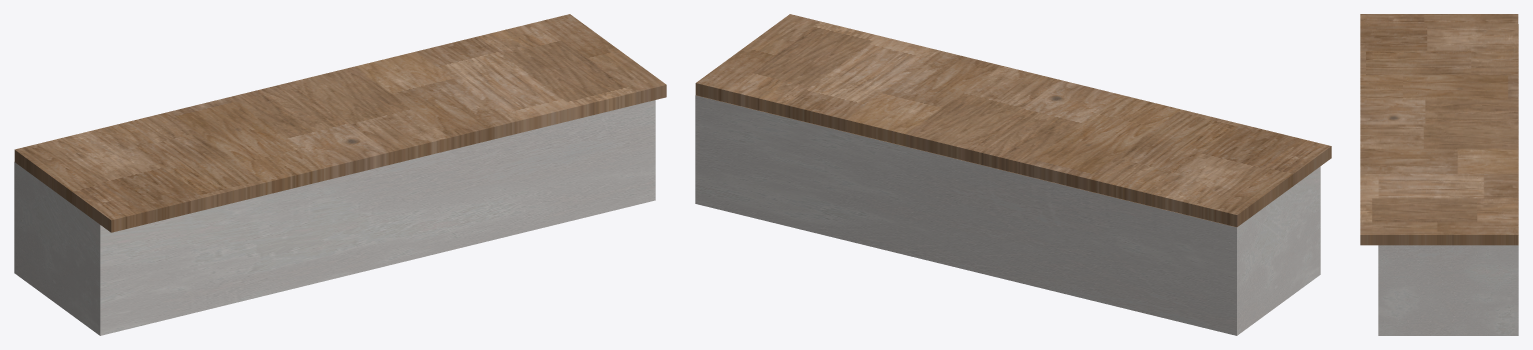
Rendered from stair.glb.
The picture shows the model from 3 angles, left to right: view 1: azimuth 30°, elevation 25°; view 2: azimuth 150°, elevation 25°; view 3: azimuth 270°, elevation 25°; orthographic projection. The views are drawn at different scales.
Parts seen in each view (by area): view 1: Cube; view 2: Cube; view 3: Cube.
Boxes of the visible parts, x1,y1,x2,y2 form: Cube: (14, 14, 666, 335); Cube: (695, 14, 1331, 335); Cube: (1360, 14, 1518, 335).
Size of the model in its own units: 7.46 by 1.59 by 2.26.
Materials: 2 (2 with a texture image).
